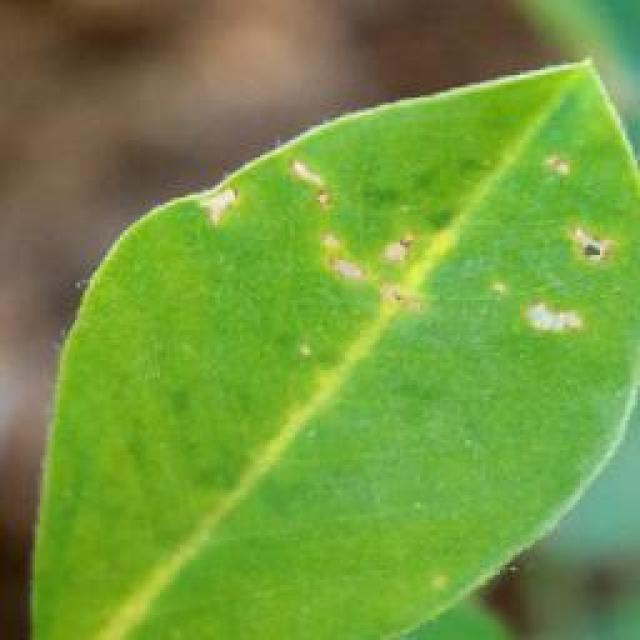Yellow_and_black_sigatoka: (35, 50, 637, 640)
